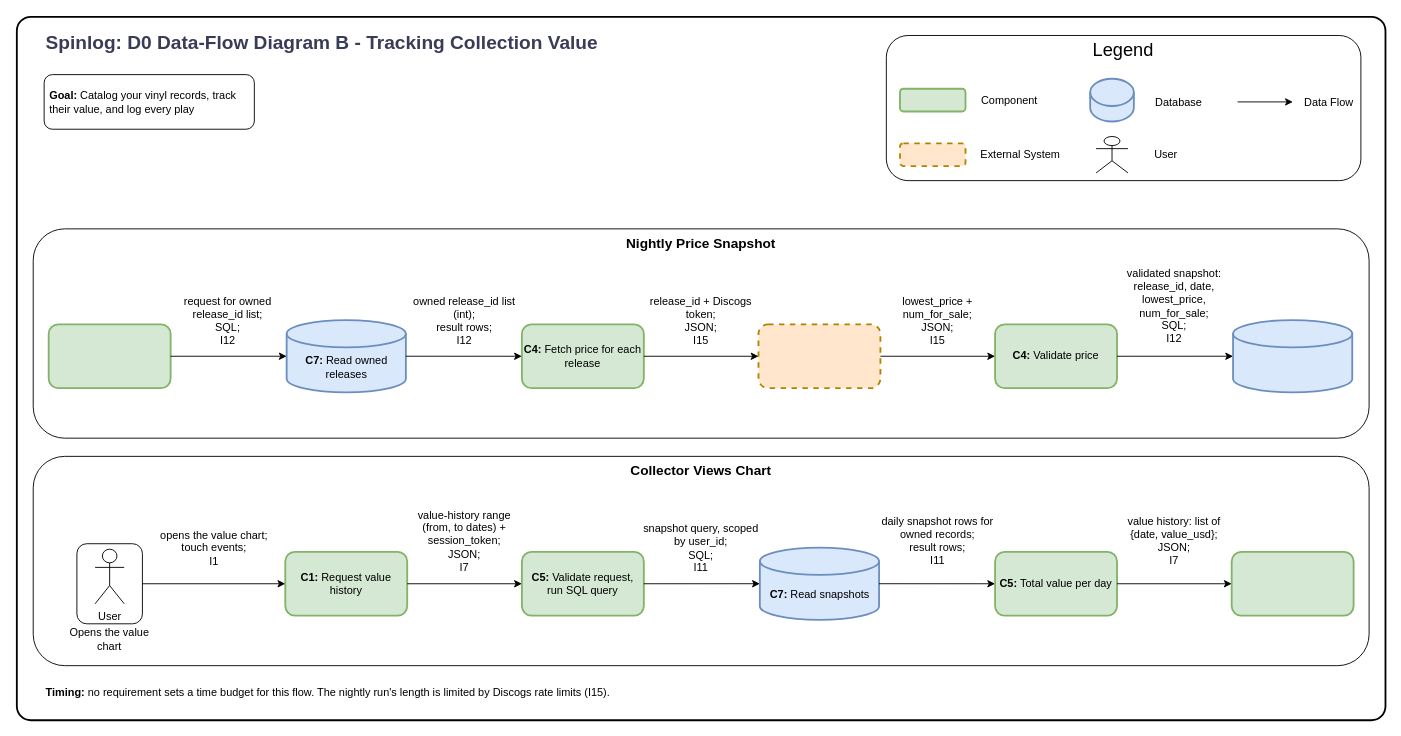
This 1401x736 diagram has some shape labels left out. Each missing label, with the box of its shape:
C1: Draw value chart: (1230, 551, 1354, 616)
C4: Nightly timer starts run: (47, 323, 171, 389)
C7: Save snapshot: (1232, 319, 1353, 393)
E3: Find price: (757, 323, 881, 389)
